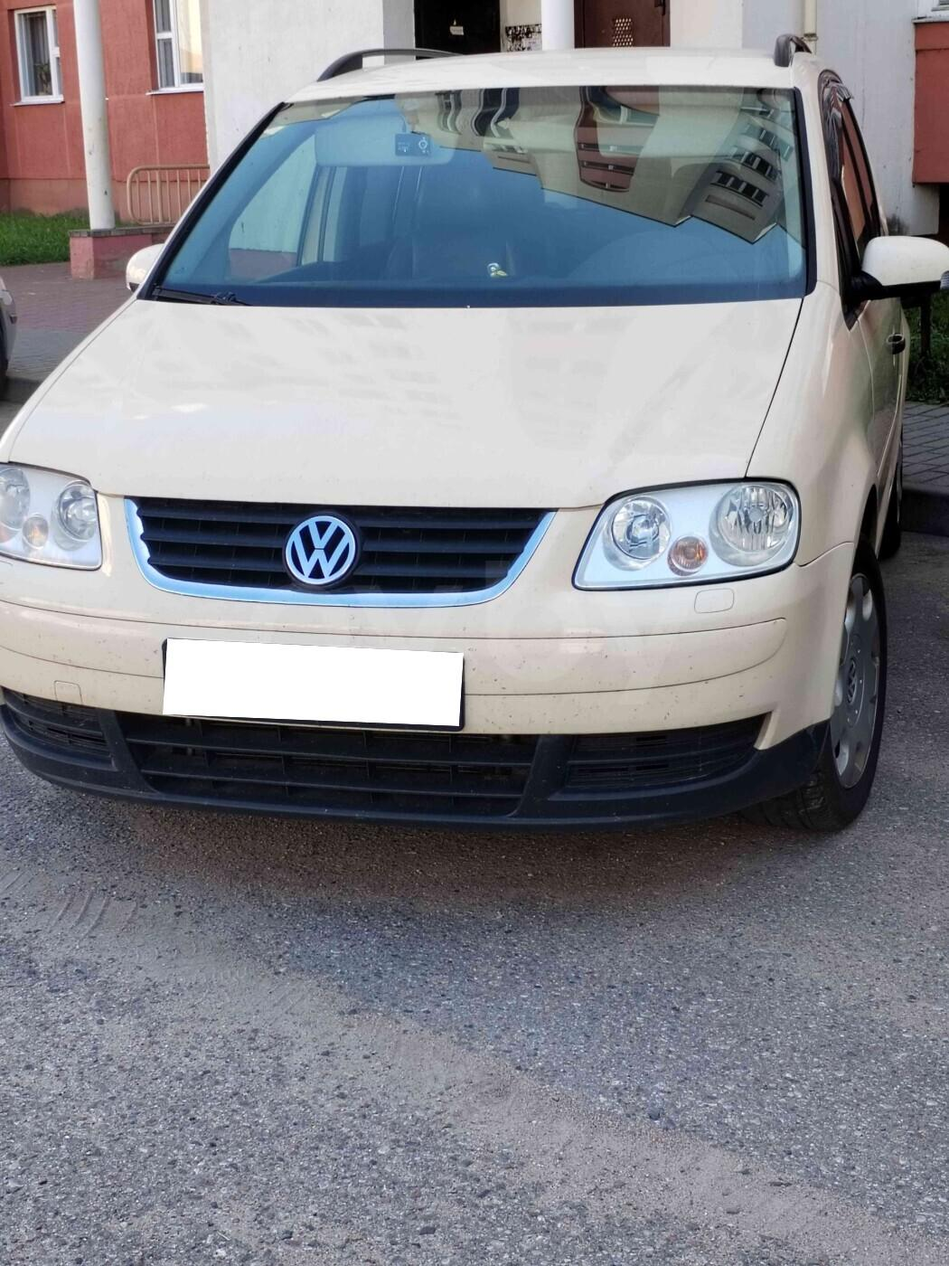Touran_2003-2006: (0, 43, 949, 841)
